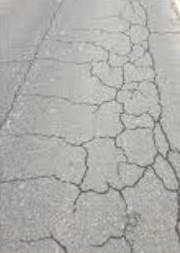alligator-crack: (17, 19, 171, 249)
